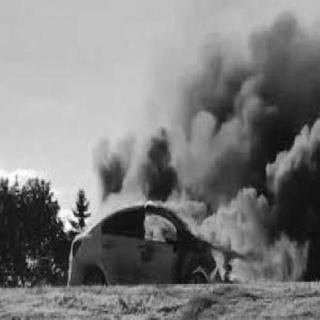Fire: (176, 196, 312, 284), (142, 210, 176, 242)
Smoke: (95, 7, 317, 193)
